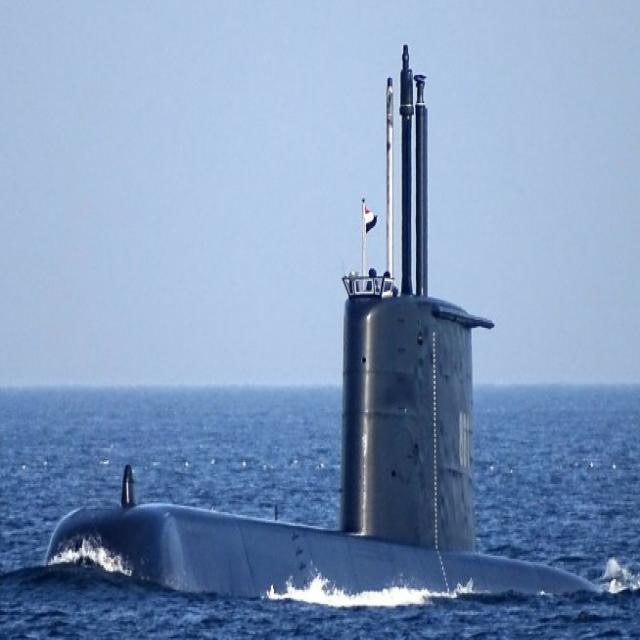submarine: (40, 25, 627, 598)
